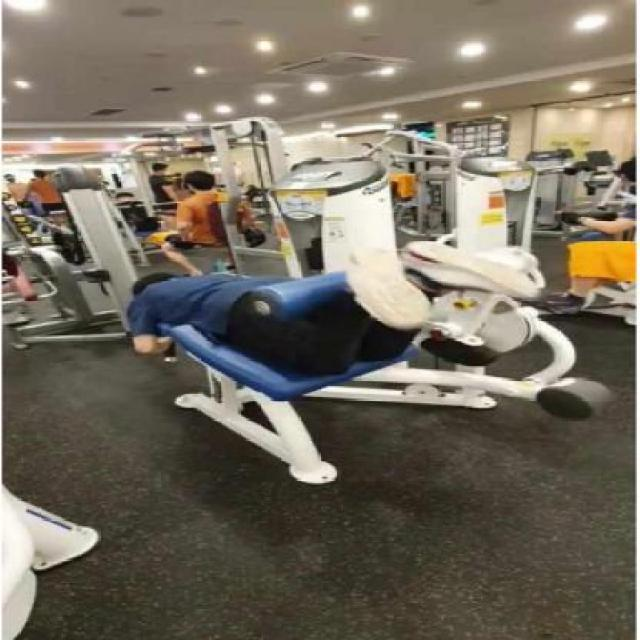reg curl machine: (110, 229, 604, 483)
